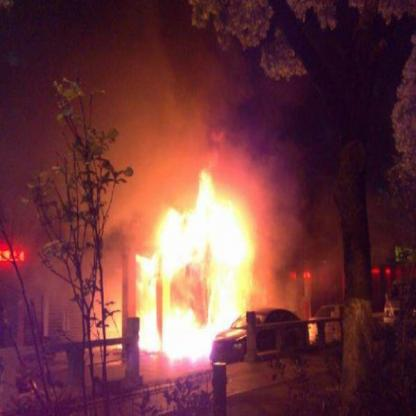fire: (126, 178, 261, 352)
